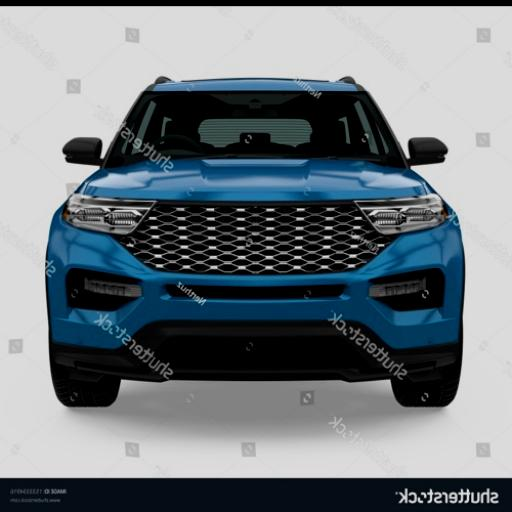suv: (48, 77, 465, 404)
